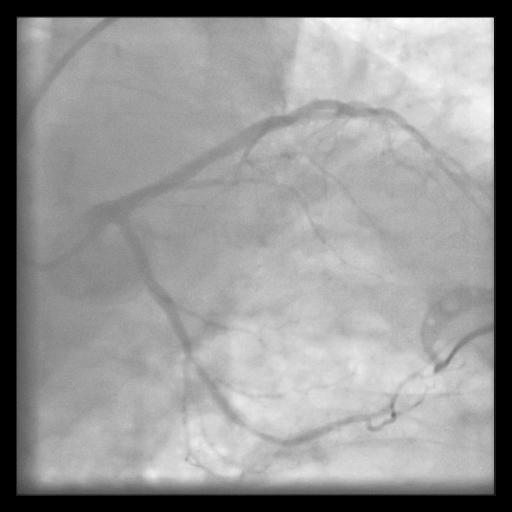Stenosis: (190, 353, 222, 401)
